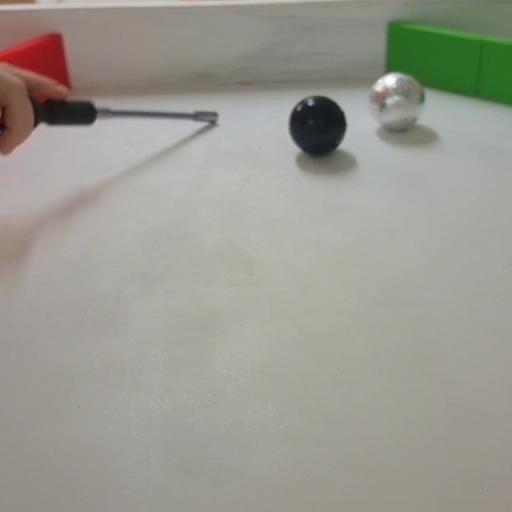alive: (368, 72, 426, 132)
dead: (288, 94, 348, 156)
